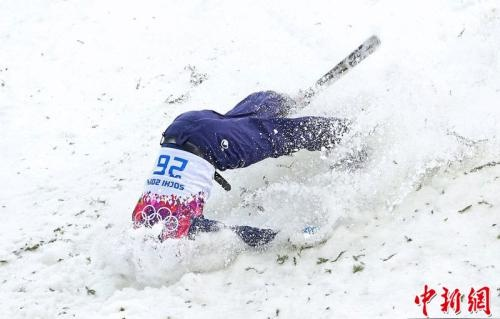falling: (114, 60, 392, 262)
